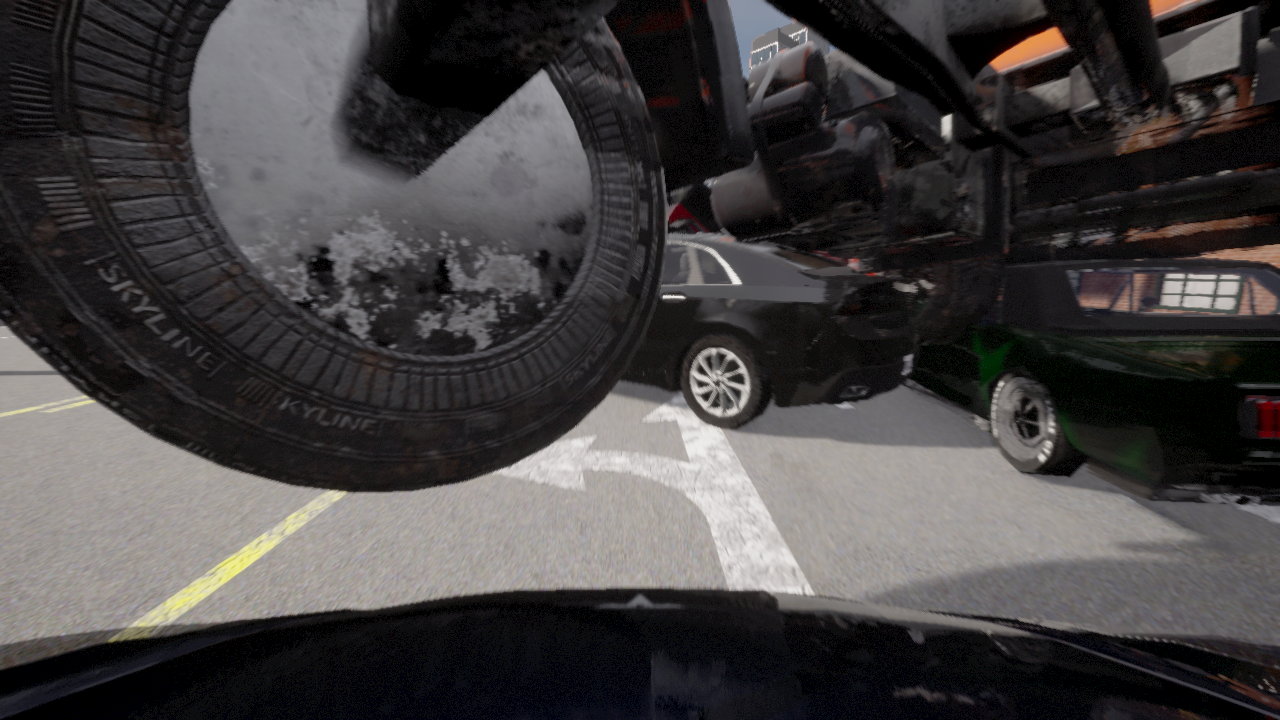cyclist: (0, 588, 1279, 719), (902, 259, 1279, 506), (619, 234, 919, 428), (666, 182, 726, 234), (809, 250, 849, 265), (848, 258, 874, 275)
